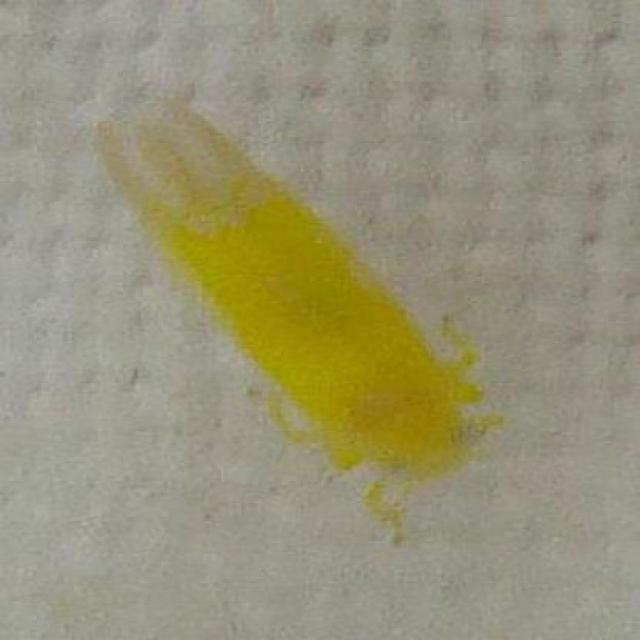green-leafhopper: (77, 102, 511, 500)
